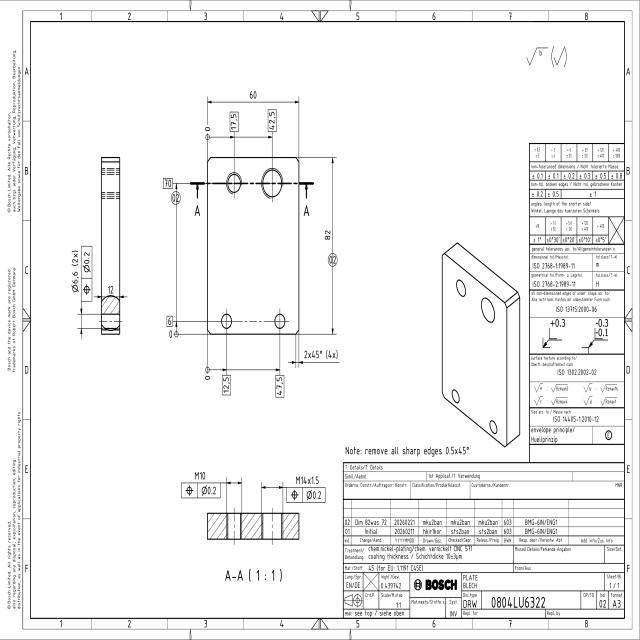dimension: (303, 349, 339, 361), (71, 250, 79, 294), (295, 474, 319, 486), (222, 374, 231, 396), (276, 374, 284, 398), (268, 109, 276, 132), (230, 111, 239, 131), (194, 470, 206, 480), (324, 228, 332, 242), (163, 178, 173, 188), (249, 89, 257, 101), (107, 284, 114, 294), (167, 316, 173, 326)
